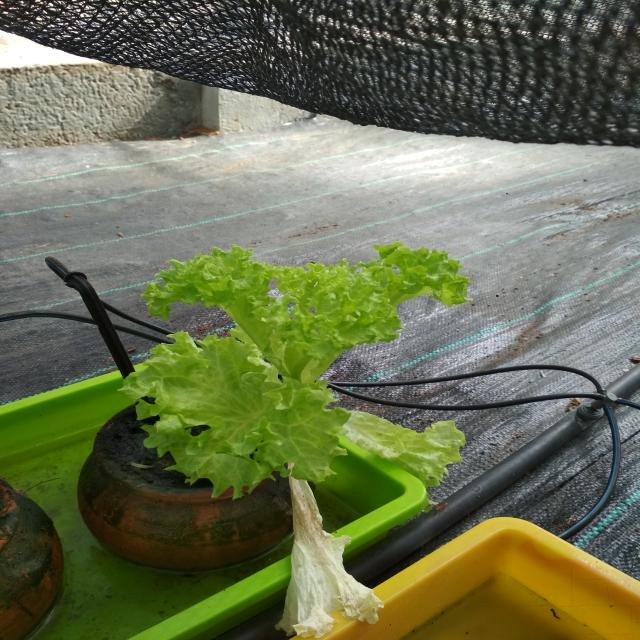Lettuce-Not-Ready-to-Harvest: (154, 240, 468, 492)
